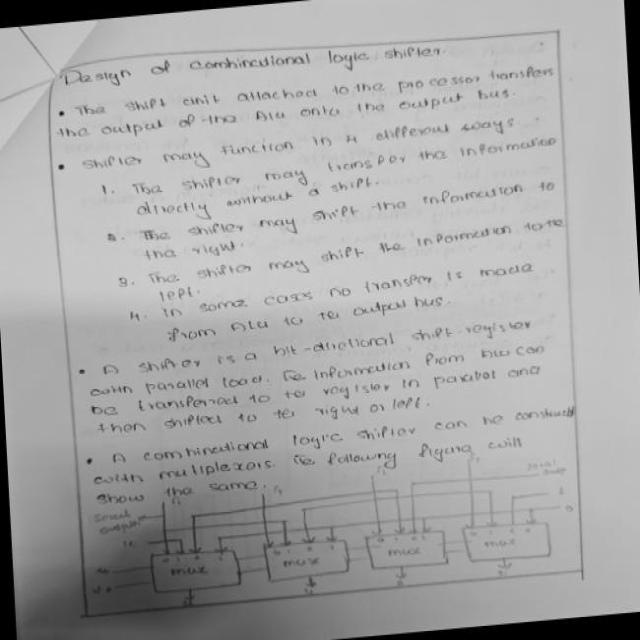Figure Detection - v3 Dataset Version2: (78, 440, 584, 619)
